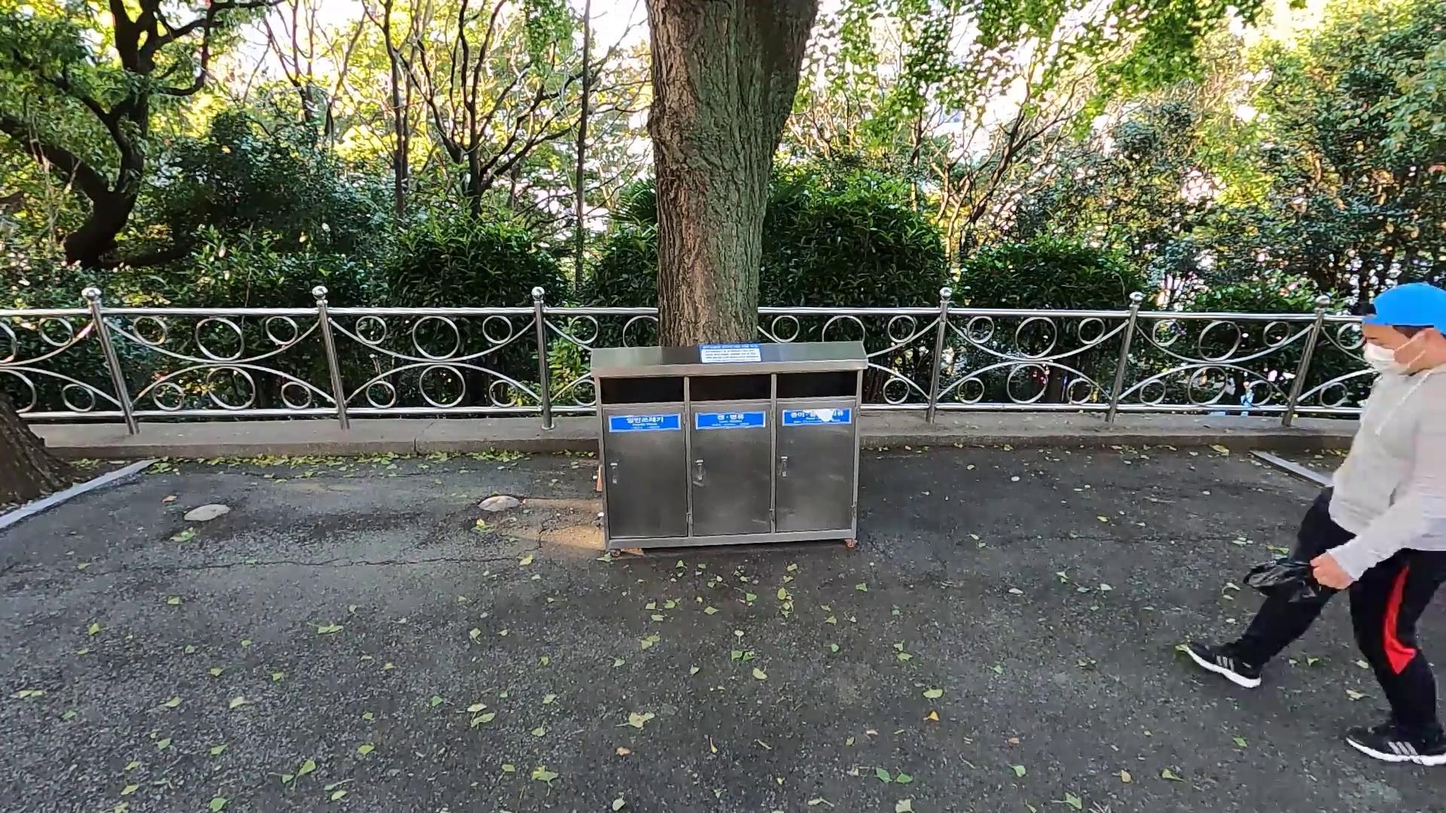person: (1171, 275, 1446, 790)
trash: (1232, 552, 1334, 612)
